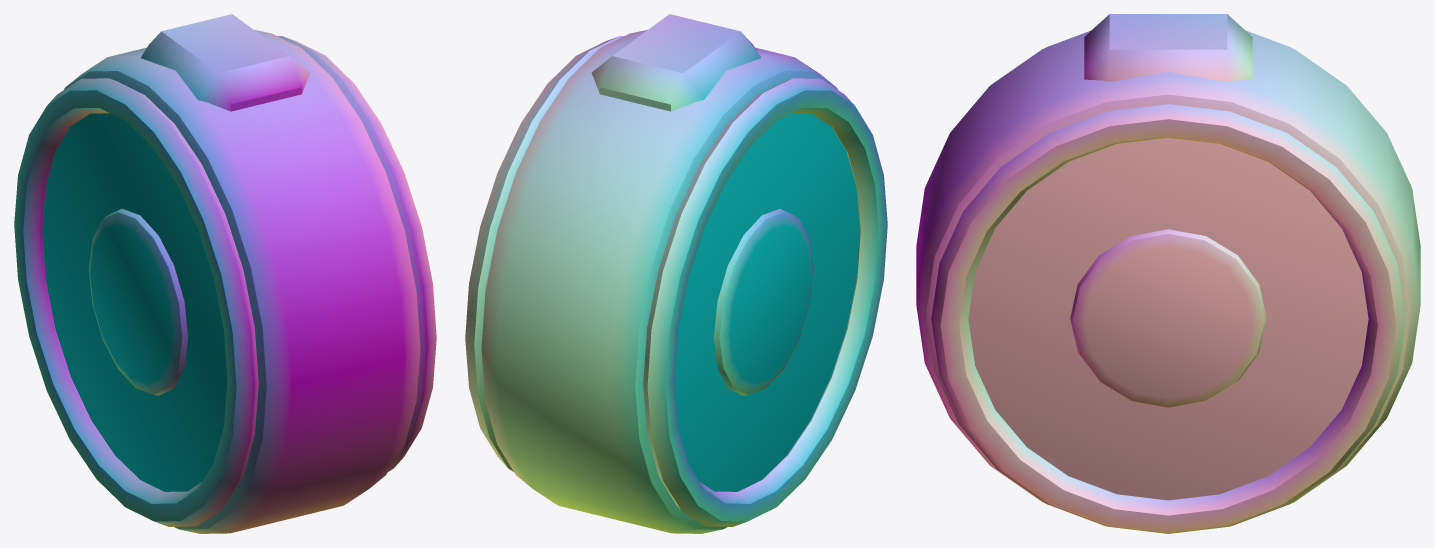
File: att_drum.glb
3 views of the same model, side by side, from view 1: azimuth 30°, elevation 25°; view 2: azimuth 150°, elevation 25°; view 3: azimuth 270°, elevation 25° (orthographic). The views are drawn at different scales.
Parts seen in each view (by area): view 1: att_drum_mesh; view 2: att_drum_mesh; view 3: att_drum_mesh.
Part boxes in pixels (x1,y1,x2,y2): att_drum_mesh: [14, 14, 436, 533]; att_drum_mesh: [465, 14, 887, 533]; att_drum_mesh: [916, 14, 1420, 533].
Bounding box in the file's own units: 0.0282 × 0.062 × 0.06.
